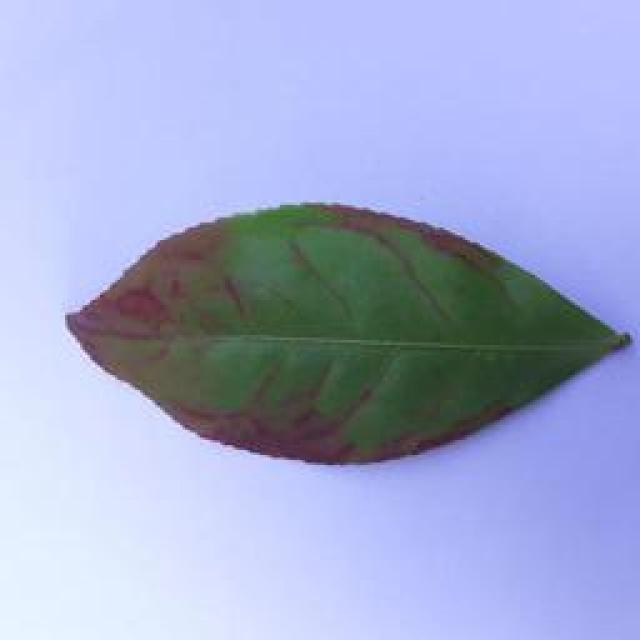Red Leaf Spot: (52, 189, 640, 457)
